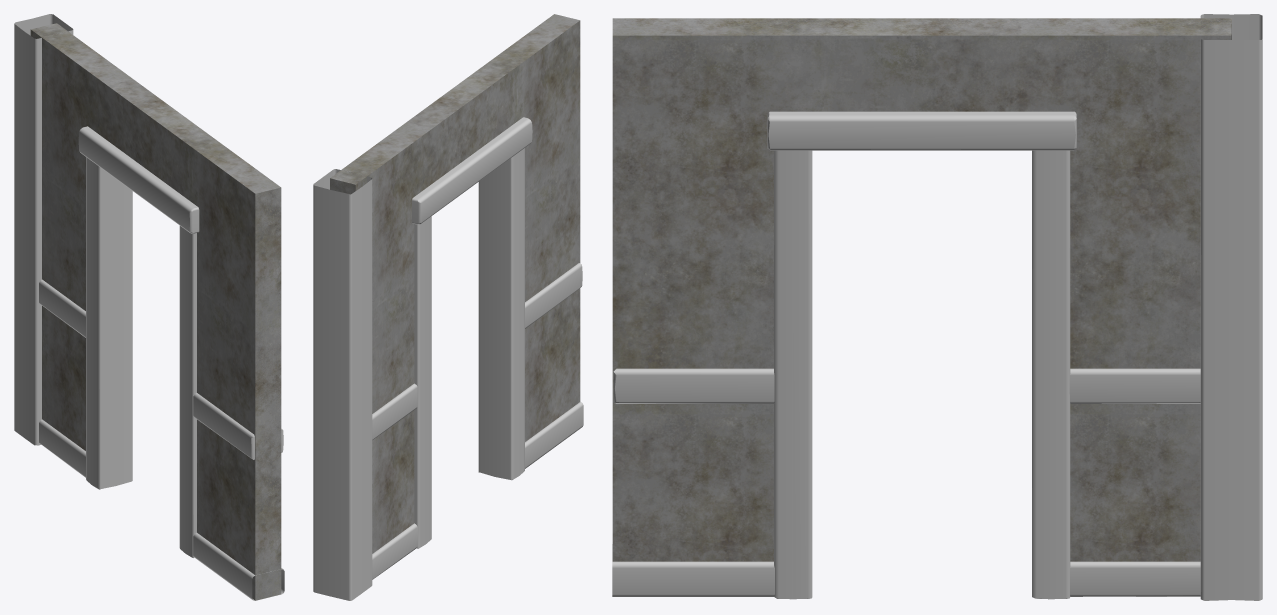
The model's file is SM_WallDoorway01.fbx.
The picture shows the model from 3 angles, left to right: view 1: azimuth 30°, elevation 25°; view 2: azimuth 150°, elevation 25°; view 3: azimuth 270°, elevation 25°; orthographic projection. The views are drawn at different scales.
Visible parts, largest first — view 1: SM_WallDoorway01_LOD0; view 2: SM_WallDoorway01_LOD0; view 3: SM_WallDoorway01_LOD0.
Part boxes in pixels (x1=…): SM_WallDoorway01_LOD0: x1=14, y1=14, x2=284, y2=600; SM_WallDoorway01_LOD0: x1=313, y1=14, x2=583, y2=600; SM_WallDoorway01_LOD0: x1=612, y1=14, x2=1262, y2=600.
Size of the model in its own units: 33.56 by 315 by 300.
